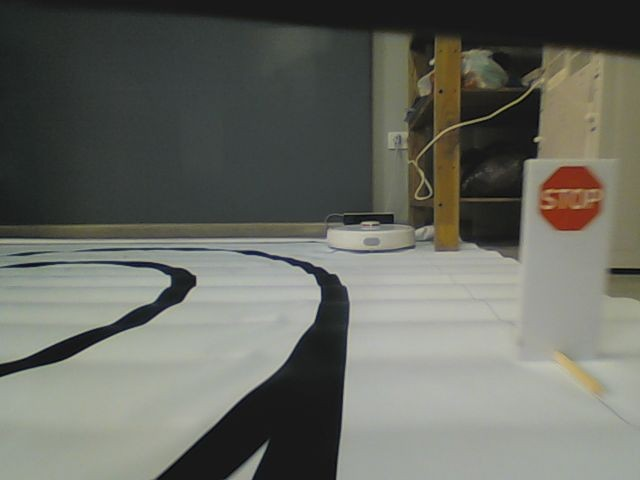Stop: (537, 164, 605, 233)
